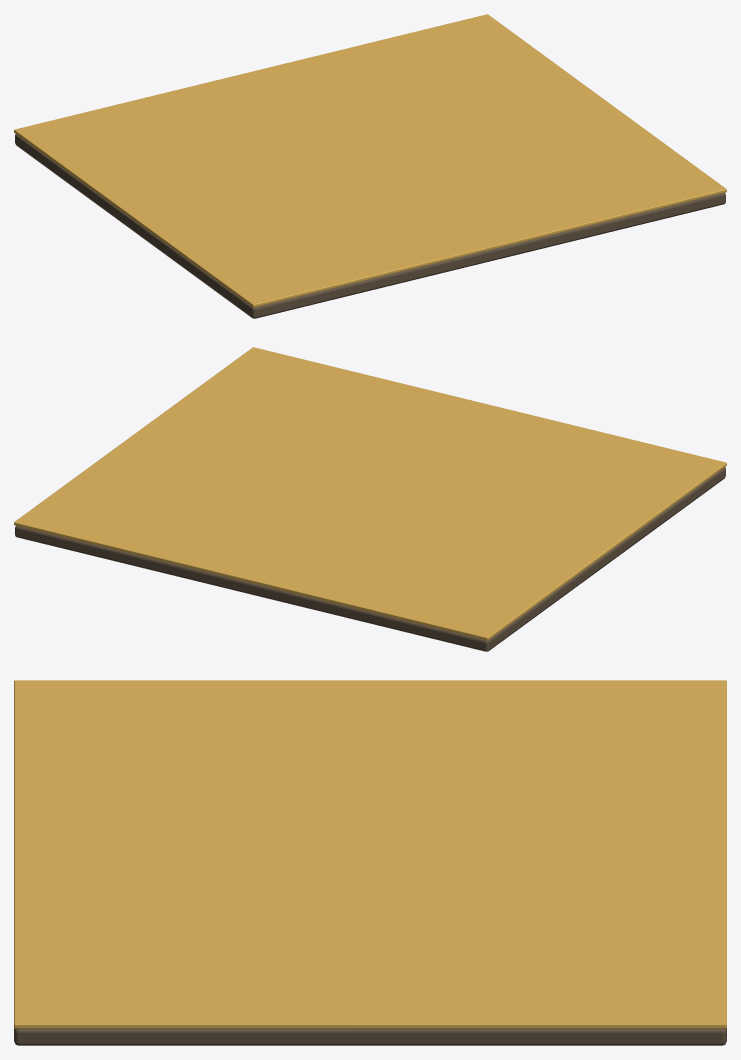
The model's file is almanac-gardens-autumn-ground-083bcd9b__22059.glb.
The picture shows the model from 3 angles, top to bottom: view 1: azimuth 30°, elevation 25°; view 2: azimuth 150°, elevation 25°; view 3: azimuth 270°, elevation 25°; orthographic projection. The views are drawn at different scales.
Parts seen in each view (by area): view 1: autumn-ground-gold, autumn-ground-soil; view 2: autumn-ground-gold, autumn-ground-soil; view 3: autumn-ground-gold, autumn-ground-soil.
Boxes of the visible parts, x1,y1,x2,y2 form: autumn-ground-gold: (14,14,726,307); autumn-ground-soil: (15,134,725,318); autumn-ground-gold: (14,347,726,640); autumn-ground-soil: (15,467,725,651); autumn-ground-gold: (14,680,726,1028); autumn-ground-soil: (14,1028,726,1045).
Size of the model in its own units: 8 by 0.2549 by 7.
